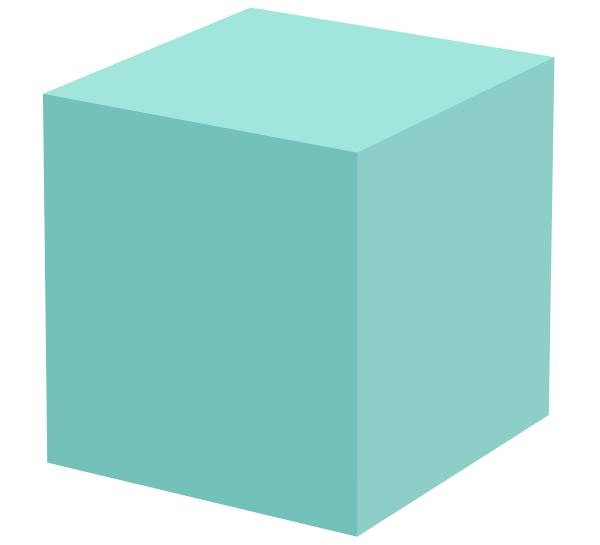cubos: (39, 4, 566, 540)
